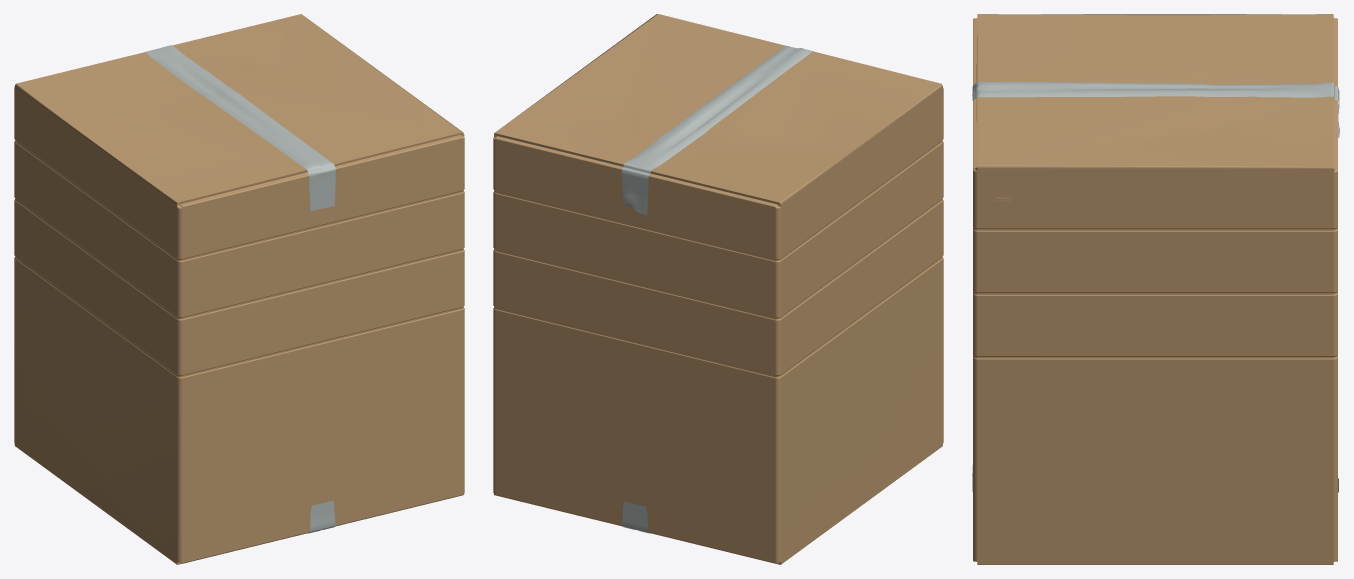
File: box_multiDepth_a03.glb
3 renders of one model, left to right at view 1: azimuth 30°, elevation 25°; view 2: azimuth 150°, elevation 25°; view 3: azimuth 270°, elevation 25°, orthographic. The views are drawn at different scales.
Bounding box in the file's own units: 0.2548 × 0.3081 × 0.2556.
